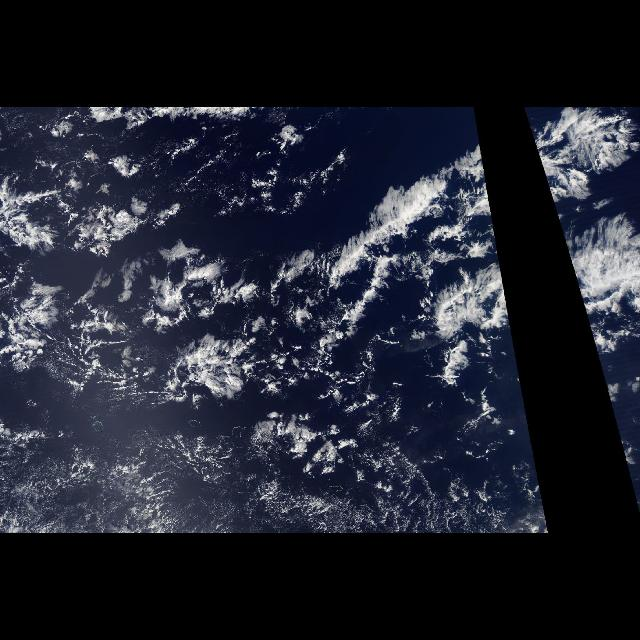Fish: (1, 160, 535, 462), (538, 160, 578, 290)
Sugar: (4, 460, 192, 530)
